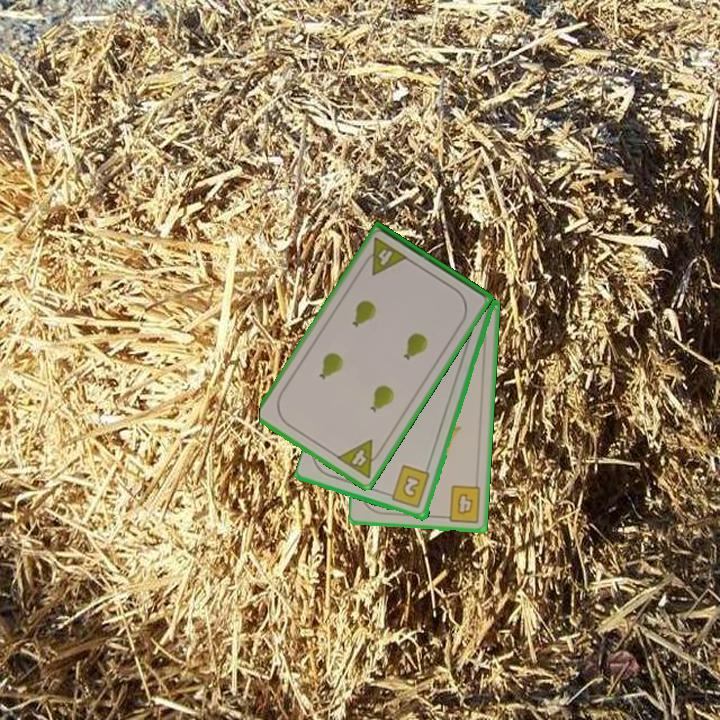2b: (383, 462, 433, 511)
4b: (439, 482, 484, 525)
4p: (333, 436, 387, 481), (358, 234, 411, 278)
